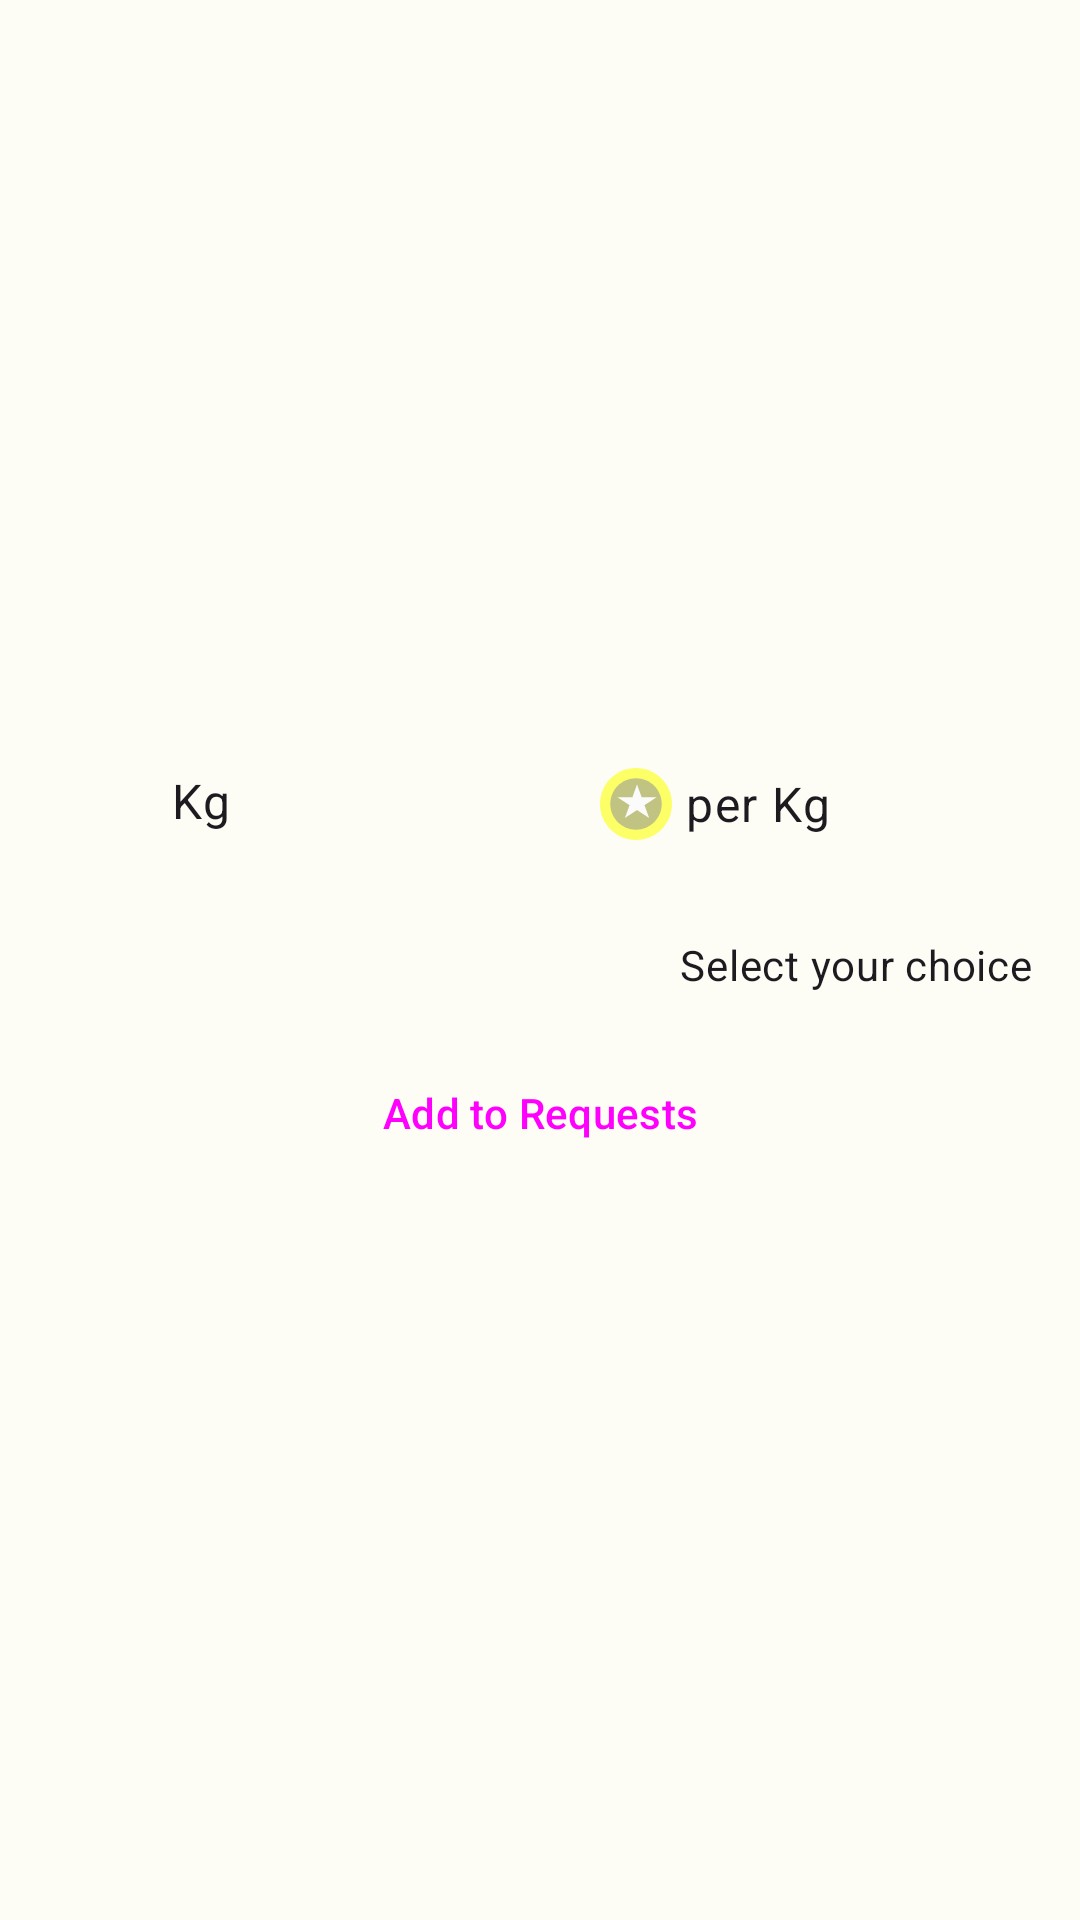

Icon click points for this 1080*1920 phone screenshot, format (x,y):
coin without frame: (636,804)
